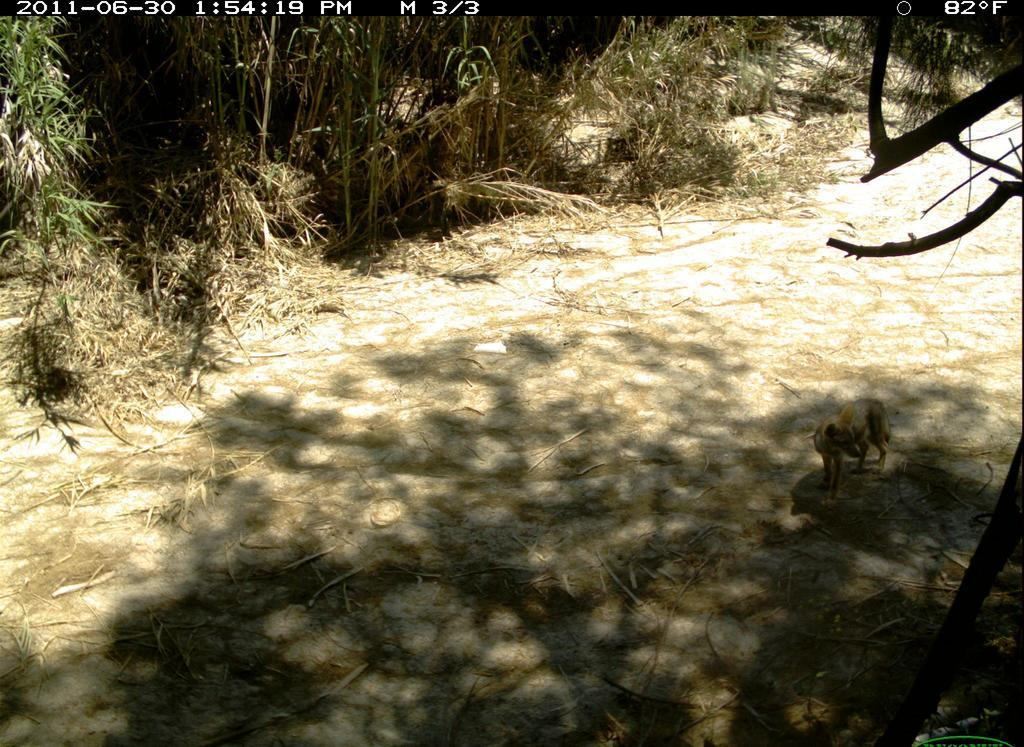coyote: (803, 381, 907, 506)
